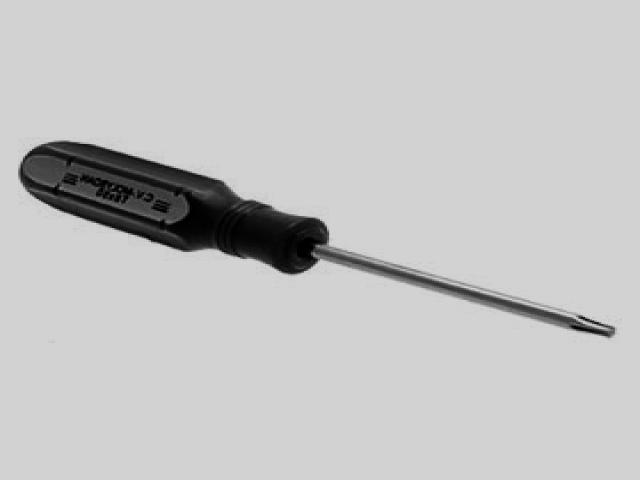Screwdriver: (21, 142, 614, 335)
